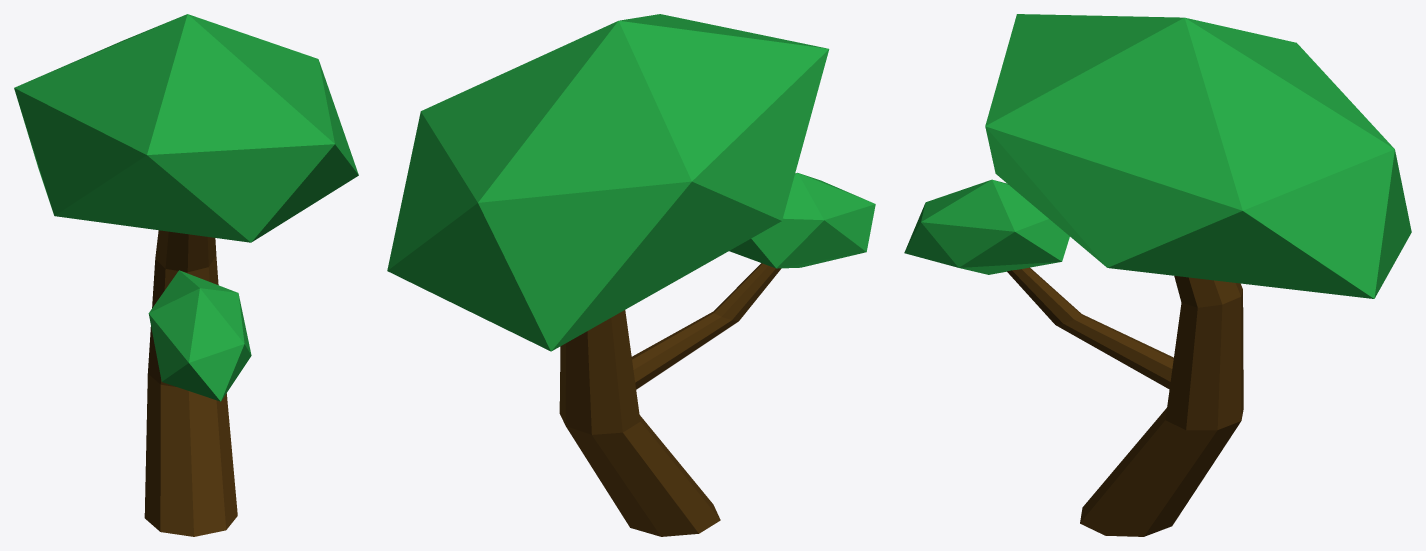
The model's file is tree006.fbx.
3 views of the same model, side by side, from view 1: azimuth 30°, elevation 25°; view 2: azimuth 150°, elevation 25°; view 3: azimuth 270°, elevation 25° (orthographic). The views are drawn at different scales.
Visible parts, largest first — view 1: Icosphere.005; view 2: Icosphere.005; view 3: Icosphere.005.
Part boxes in pixels (left/top/right/bottom): Icosphere.005: left=14, top=14, right=358, bottom=536; Icosphere.005: left=387, top=14, right=875, bottom=536; Icosphere.005: left=904, top=14, right=1411, bottom=536.
Bounding box in the file's own units: 746 × 1131 × 1017.
